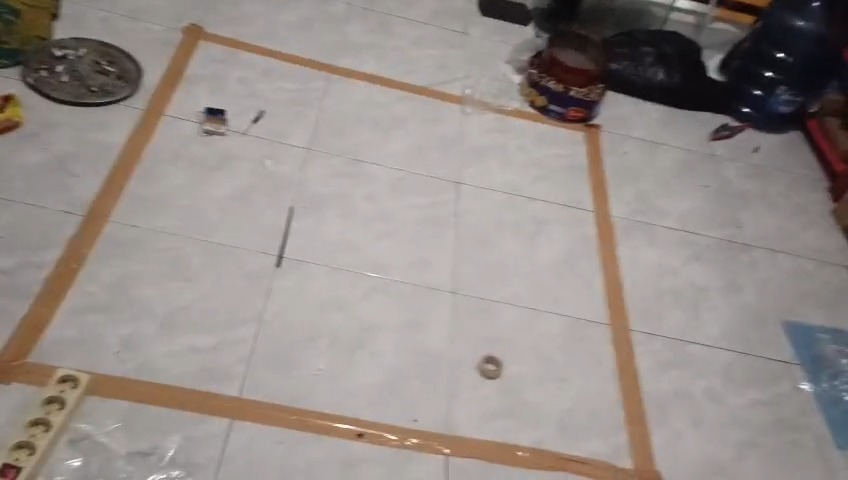floor marking: (89, 104, 661, 479), (0, 24, 462, 385)
